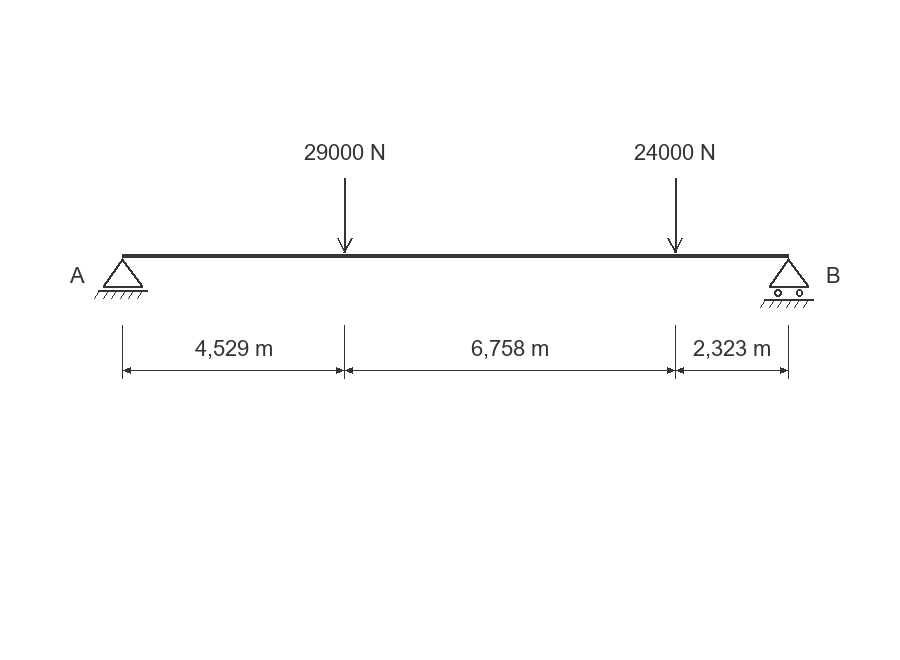pin_support: (94, 258, 148, 299)
point_load: (337, 178, 353, 253), (667, 178, 683, 253)
roller_support: (760, 258, 814, 308)
